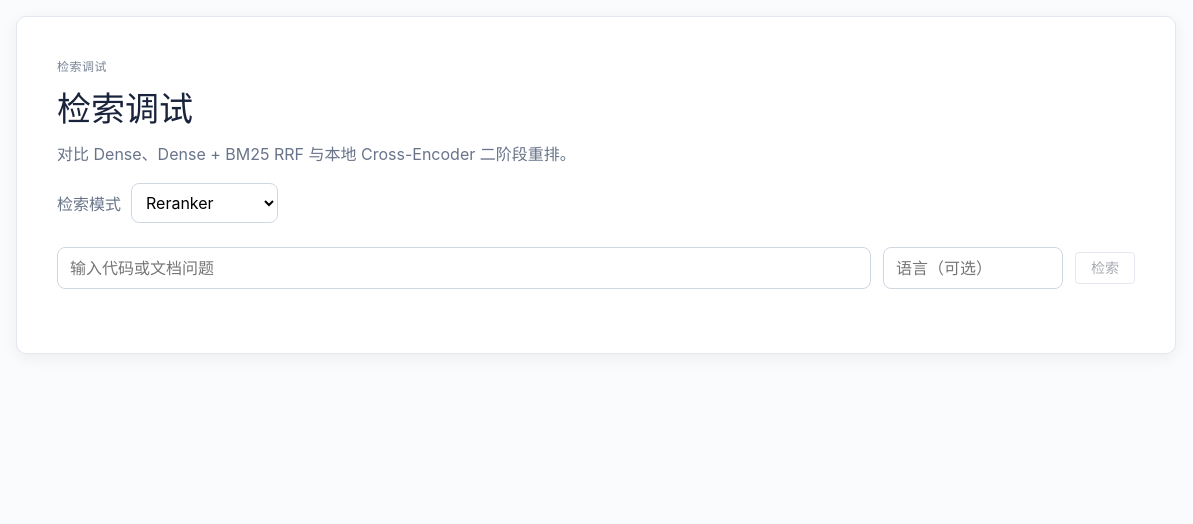
Test: SemanticSearchPanel › uses the dedicated layout, limit five, language filter, and traceable result cards
Type "python" into the field named "语言过滤".
click(973, 268); type("python")  # box [883,247,1063,289]
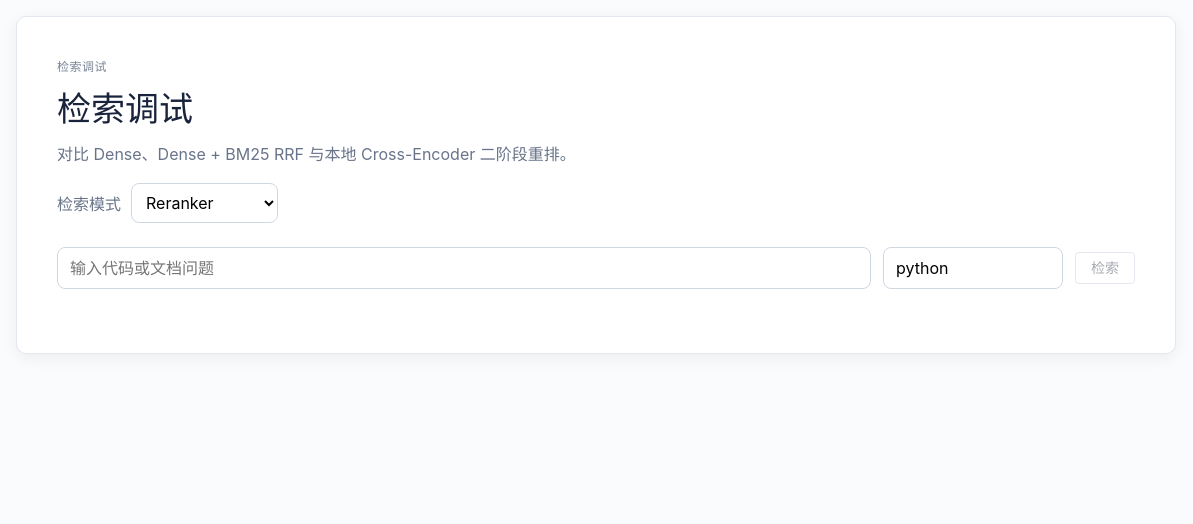
Type "service layer" into the field named "语义查询".
click(464, 268); type("service layer")  # box [57,247,871,289]
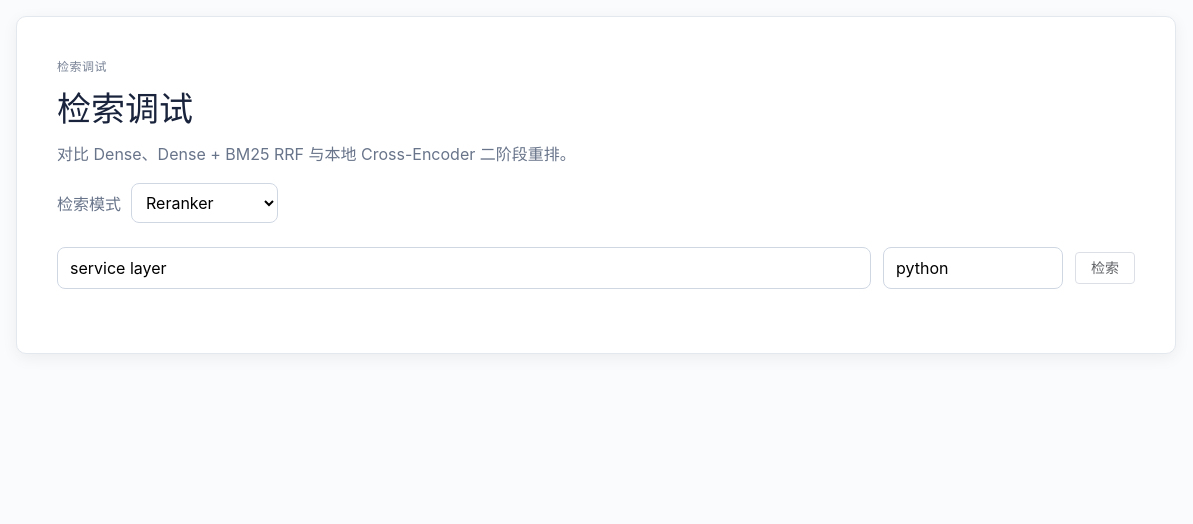
Submit the form, box [57,247,1135,289]
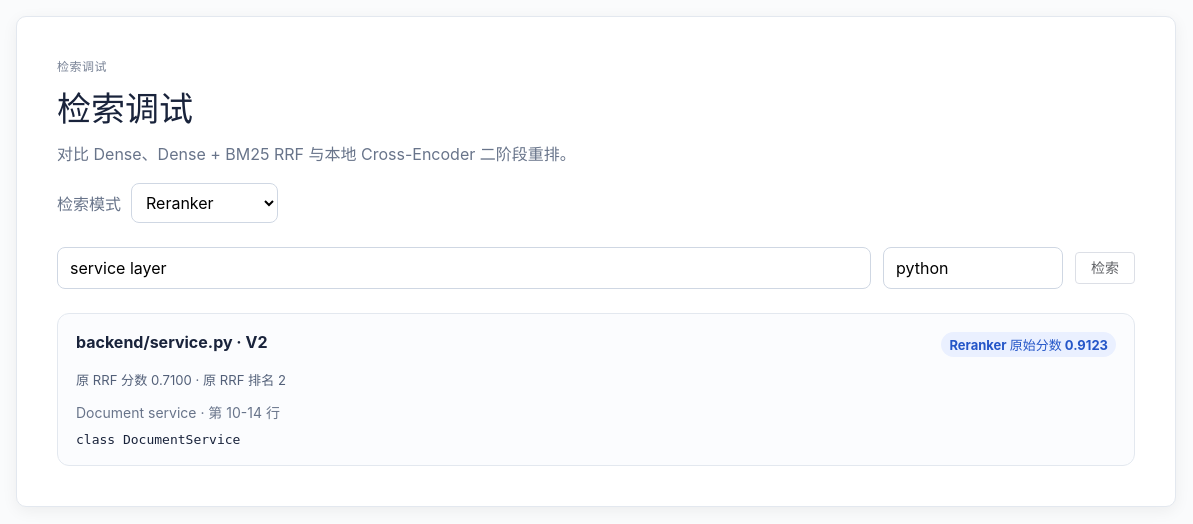
Now the number of elements with class "search-result-card" is 1, box [57,313,1135,466]
Now the text "backend/service.py · V2" is shown, box [76,332,268,352]
Now the text "Reranker 原始分数 0.9123" is shown, box [942,332,1116,357]
